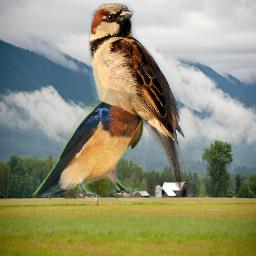Swallow: (87, 3, 185, 190), (32, 81, 152, 201)
